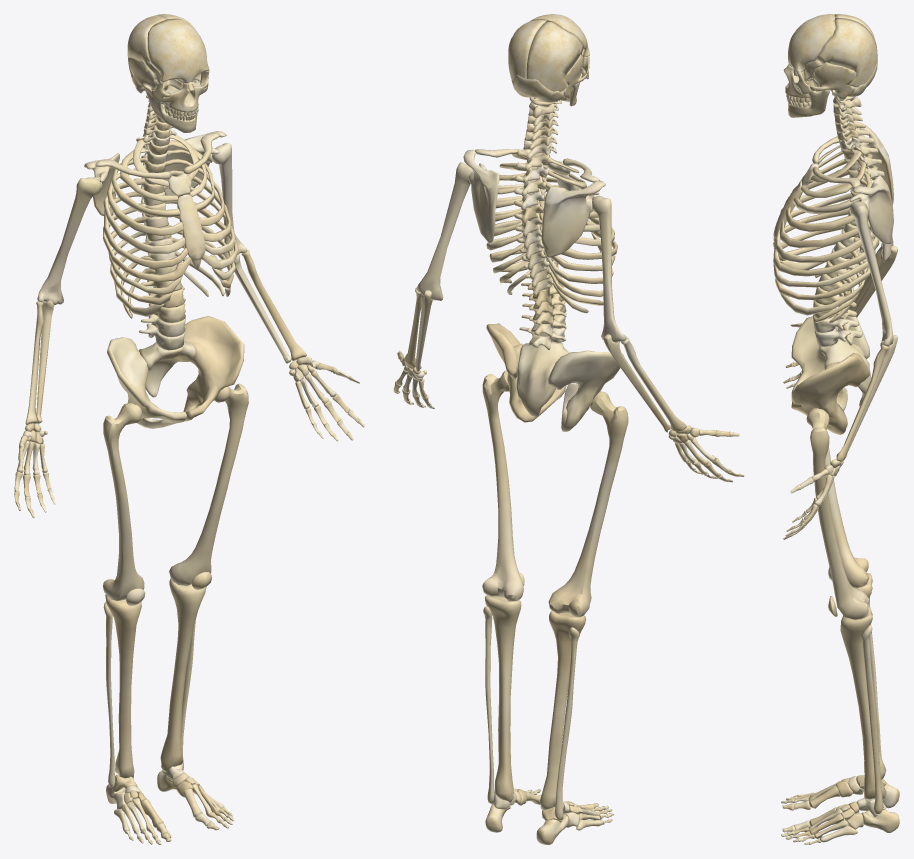
Rendered from skeleton.glb.
3 views of the same model, side by side, from view 1: azimuth 30°, elevation 25°; view 2: azimuth 150°, elevation 25°; view 3: azimuth 270°, elevation 25° (orthographic).
Visible parts, largest first — view 1: Ribs, Hipbone.001, Thigh bone LEFT, Thigh bone RIGHT, Tibia [Leg], Frontal Bone, Tibia Leg, Hipbone, Thoracic_Vertebrae, Right_Humerus, Lumbar_Vertebrae, Sternum (+13 smaller); view 2: Ribs, Thigh bone RIGHT, Thigh bone LEFT, Tibia [Leg], Thoracic_Vertebrae, Hipbone, Tibia Leg, Right_Scapula, Right_Parietal_bone, Sacrum, Lumbar_Vertebrae, Left_Humerus (+10 smaller); view 3: Ribs, Thigh bone LEFT, Hipbone.001, Tibia [Leg], Left_Parietal_bone, Hipbone, Lumbar_Vertebrae, Frontal Bone, Left_Scapula, Left_Humerus, Thoracic_Vertebrae, Thigh bone RIGHT (+19 smaller).
Boxes of the visible parts, <box> form: Ribs: <box>103,135,238,318</box>; Hipbone.001: <box>178,316,244,421</box>; Thigh bone LEFT: <box>169,383,248,585</box>; Thigh bone RIGHT: <box>103,403,144,601</box>; Tibia [Leg]: <box>160,578,206,772</box>; Frontal Bone: <box>147,18,209,83</box>; Tibia Leg: <box>105,594,141,778</box>; Hipbone: <box>107,337,186,428</box>; Thoracic_Vertebrae: <box>134,136,177,274</box>; Right_Humerus: <box>37,177,101,304</box>; Lumbar_Vertebrae: <box>139,280,185,350</box>; Sternum: <box>168,172,205,269</box>; Ribs: <box>486,152,617,313</box>; Thigh bone RIGHT: <box>548,391,628,617</box>; Thigh bone LEFT: <box>482,370,523,601</box>; Tibia [Leg]: <box>485,595,521,802</box>; Thoracic_Vertebrae: <box>514,149,558,296</box>; Hipbone: <box>547,350,623,431</box>; Tibia Leg: <box>540,610,586,809</box>; Right_Scapula: <box>541,180,605,257</box>; Right_Parietal_bone: <box>526,20,583,91</box>; Sacrum: <box>516,341,569,417</box>; Lumbar_Vertebrae: <box>519,276,566,350</box>; Left_Humerus: <box>416,162,472,300</box>; Ribs: <box>773,145,879,322</box>; Thigh bone LEFT: <box>806,408,868,619</box>; Hipbone.001: <box>791,353,869,434</box>; Tibia [Leg]: <box>840,606,886,799</box>; Left_Parietal_bone: <box>816,18,877,87</box>; Hipbone: <box>791,316,869,410</box>; Lumbar_Vertebrae: <box>813,274,862,346</box>; Frontal Bone: <box>788,14,835,72</box>; Left_Scapula: <box>850,175,893,243</box>; Left_Humerus: <box>850,201,893,346</box>; Thoracic_Vertebrae: <box>824,135,884,284</box>; Thigh bone RIGHT: <box>825,429,868,588</box>.
Bounding box in the file's own units: 0.8141 × 1.8 × 0.2564.
3 materials, 3 textured.
